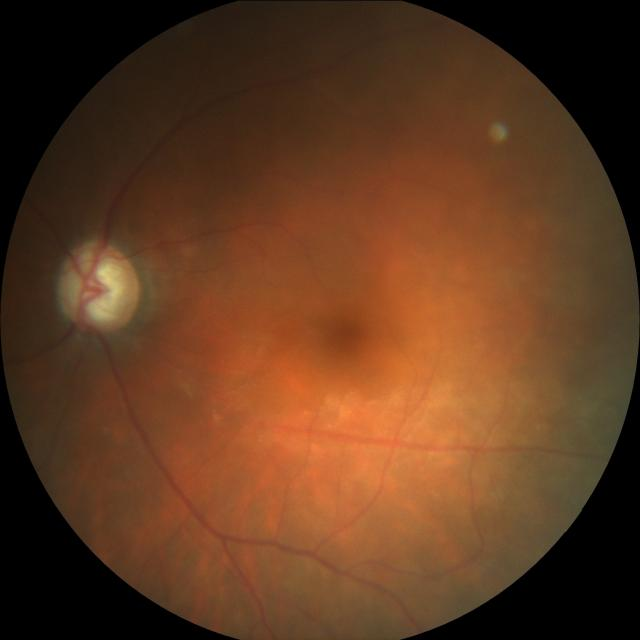OC: (69, 254, 126, 321)
OD: (54, 239, 139, 333)
